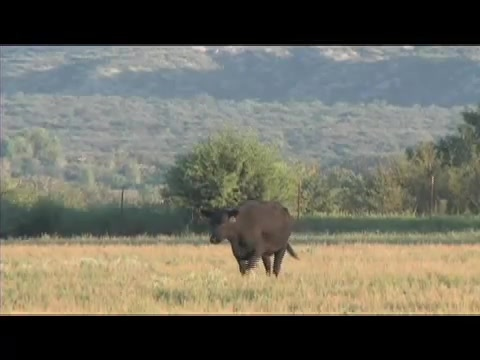cow: (201, 200, 302, 281)
